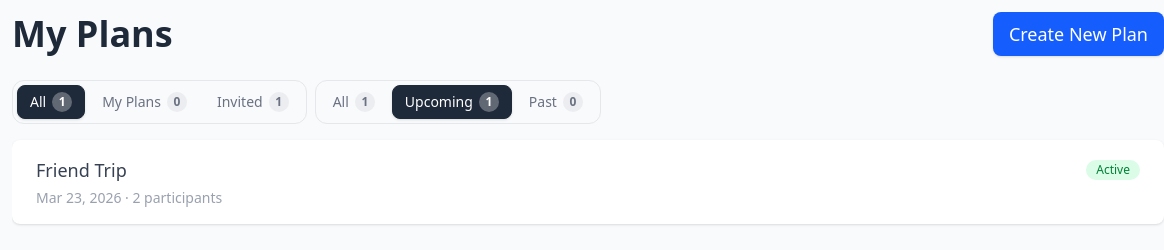
PlansList › shows empty owned message when user owns no plans
The image size is (1164, 250).
Click the tab with test id "membership-filter-owned" at (145, 102), box [89,85,200,119]
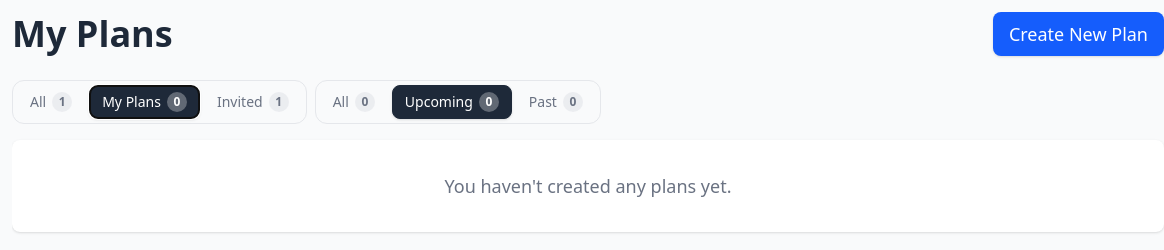
Result: the text "You haven't created any plans yet." is shown at [444,174,732,198]
